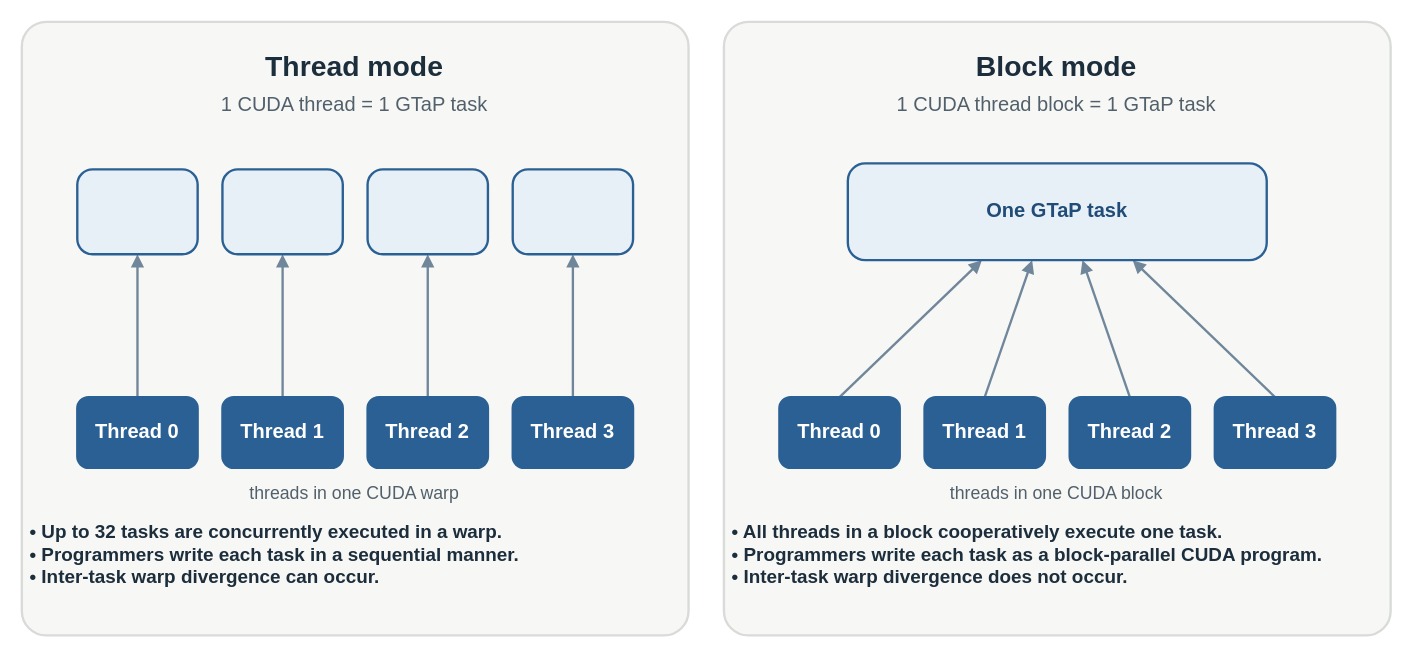
Image size: 1411x656. Some labels were removed from this diagram. The shapes that lost their labels are listed below. From the top down, each one's centre as x and y in pixels, then its label:
At point (137, 211): "Task 0".
At point (282, 211): "Task 1".
At point (427, 211): "Task 2".
At point (572, 211): "Task 3".
